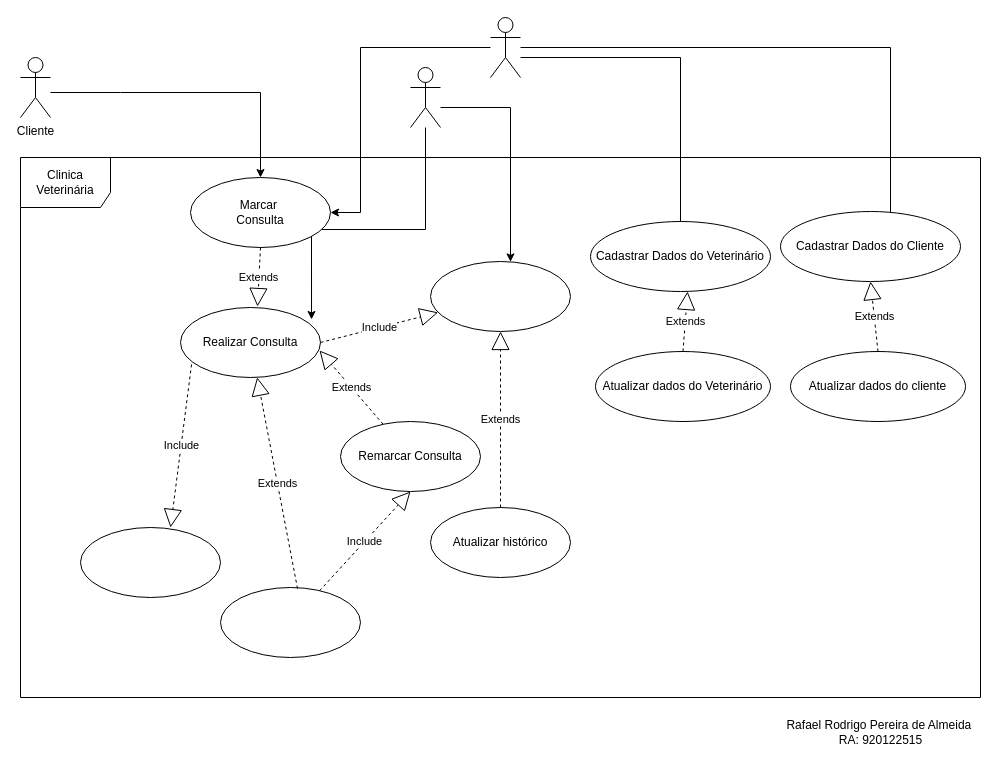
This 998x775 diagram has some shape labels left out. Each missing label, with the centre of its shape:
"Gerar conta" goes at point 150,562.
"Marcar Exames" goes at point 290,622.
"Registrar histórico" goes at point 500,296.
"Secretária" goes at point 505,47.
"Veterinário" goes at point 425,97.
